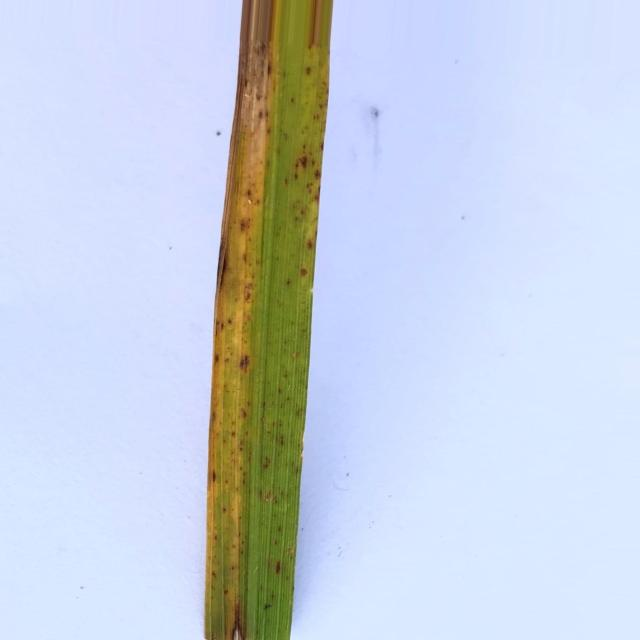Rice Tungro: (210, 0, 273, 640)
